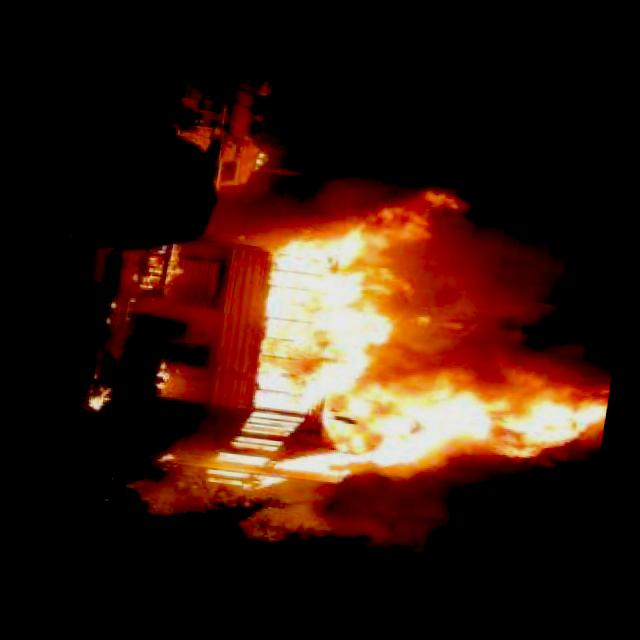helmet: (241, 199, 617, 508), (132, 236, 191, 292), (83, 382, 123, 414), (153, 356, 189, 391), (244, 141, 275, 177)
